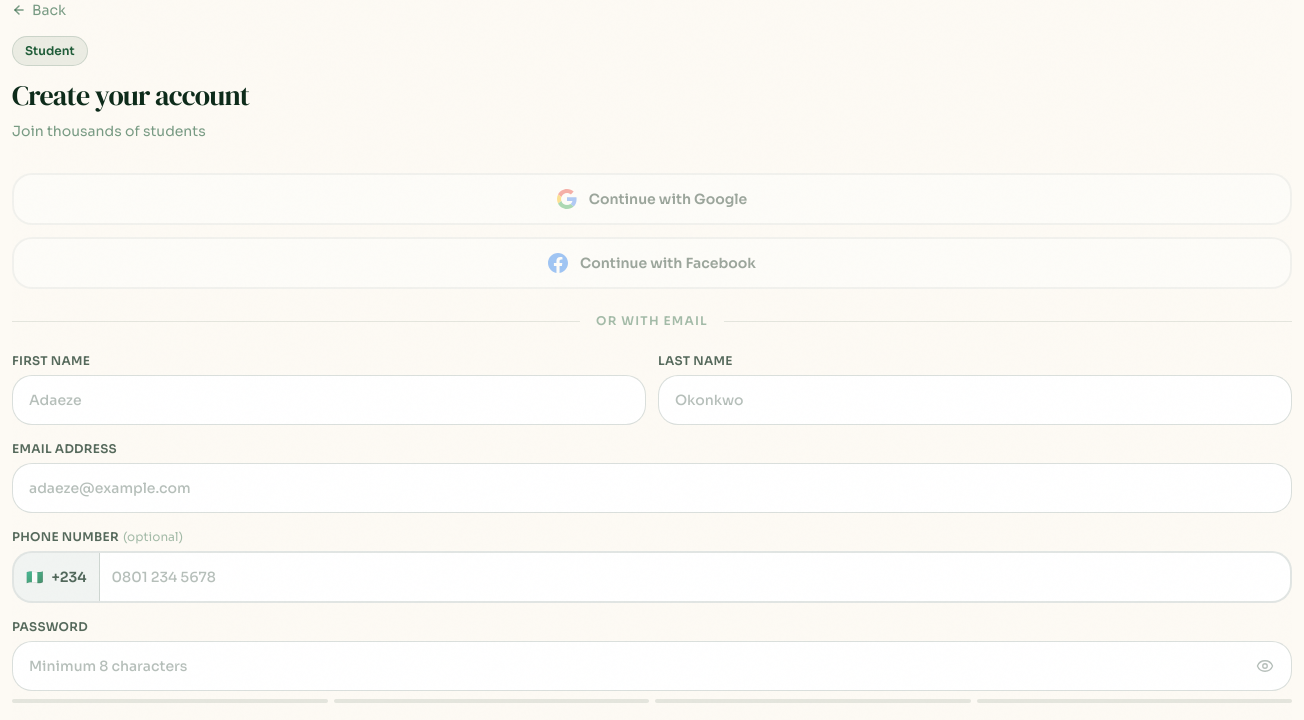
Test: Step2Details › Password Strength Indicator › shows Weak label for short password
Type "abc" into the password field with placeholder "Minimum 8 characters" at [652, 666], box x1=12 y1=641 x2=1292 y2=691
(page scrolled)
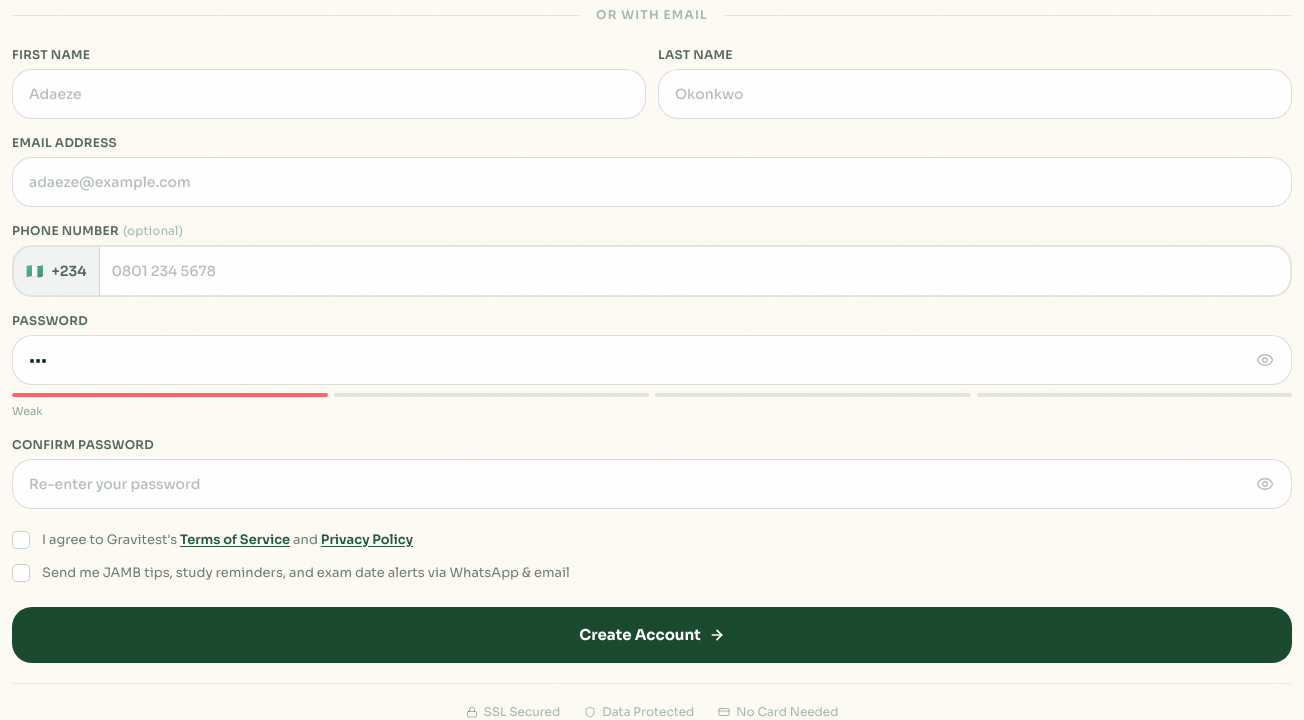
expect the text "Weak" is shown: met, box x1=12 y1=404 x2=43 y2=418
